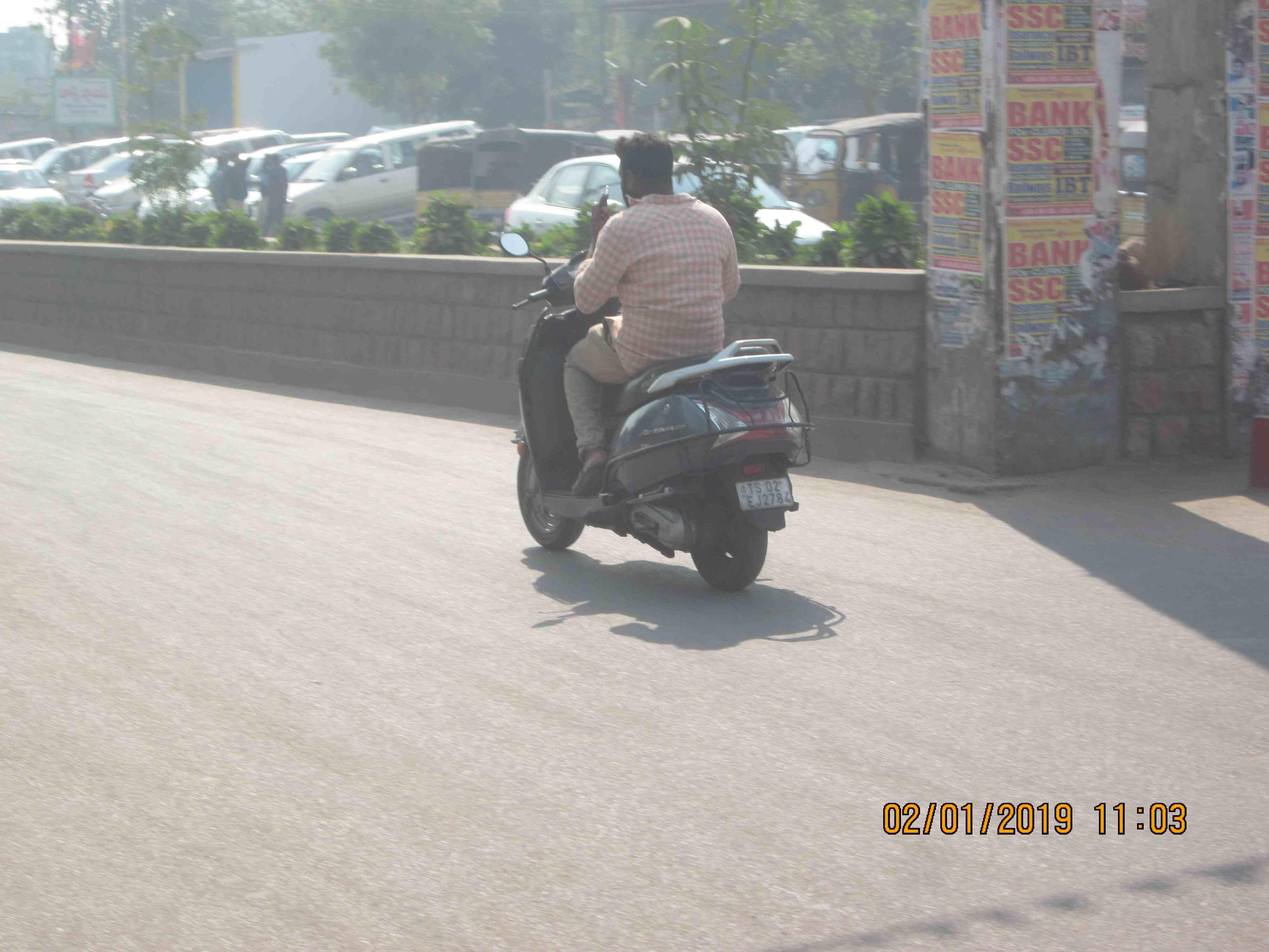plate: (733, 472, 802, 516)
